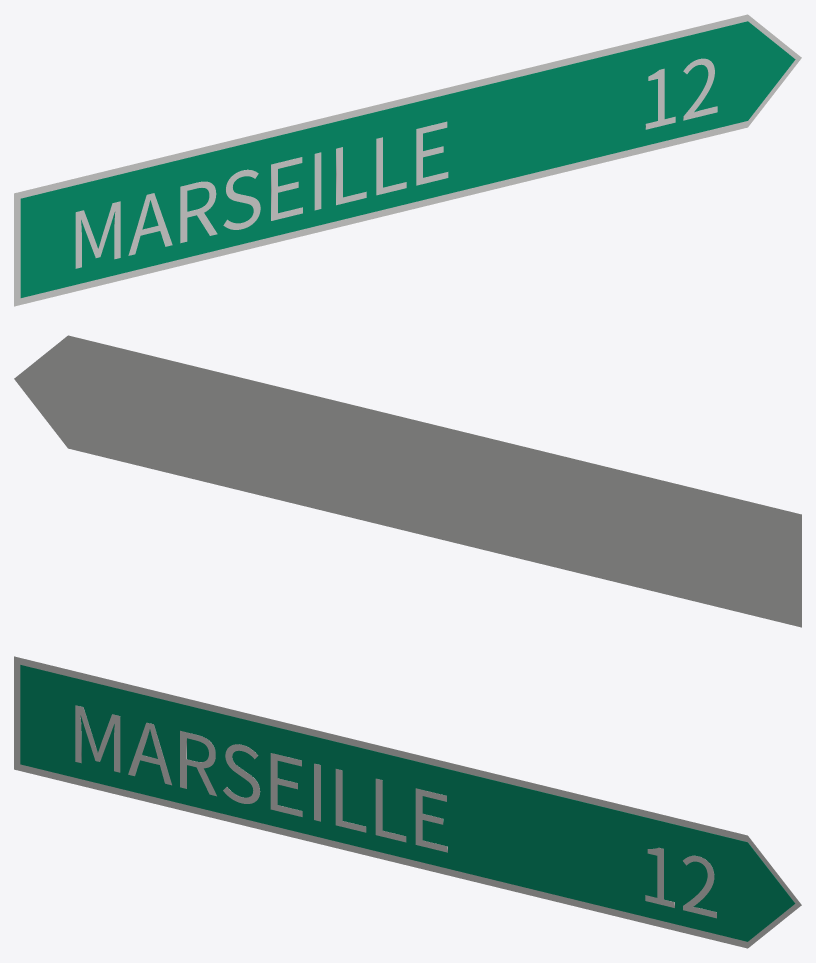
3 renders of one model, top to bottom at view 1: azimuth 30°, elevation 25°; view 2: azimuth 150°, elevation 25°; view 3: azimuth 330°, elevation 25°, orthographic.
Parts seen in each view (by area): view 1: Dv21c_reg01, Dv21c_lis00, Dv21c_txt02, Dv21c_txt03; view 2: Dv21c_lis00; view 3: Dv21c_reg01, Dv21c_lis00, Dv21c_txt02, Dv21c_txt03.
Boxes of the visible parts, x1=… form: Dv21c_reg01: x1=20, y1=21, x2=795, y2=297; Dv21c_lis00: x1=14, y1=14, x2=801, y2=306; Dv21c_txt02: x1=75, y1=121, x2=448, y2=268; Dv21c_txt03: x1=645, y1=58, x2=717, y2=129; Dv21c_lis00: x1=14, y1=335, x2=801, y2=627; Dv21c_reg01: x1=20, y1=665, x2=795, y2=941; Dv21c_lis00: x1=14, y1=656, x2=801, y2=948; Dv21c_txt02: x1=75, y1=705, x2=447, y2=852; Dv21c_txt03: x1=645, y1=847, x2=716, y2=918.
Bounding box in the file's own units: 1.82 × 0.25 × 0.0016.
